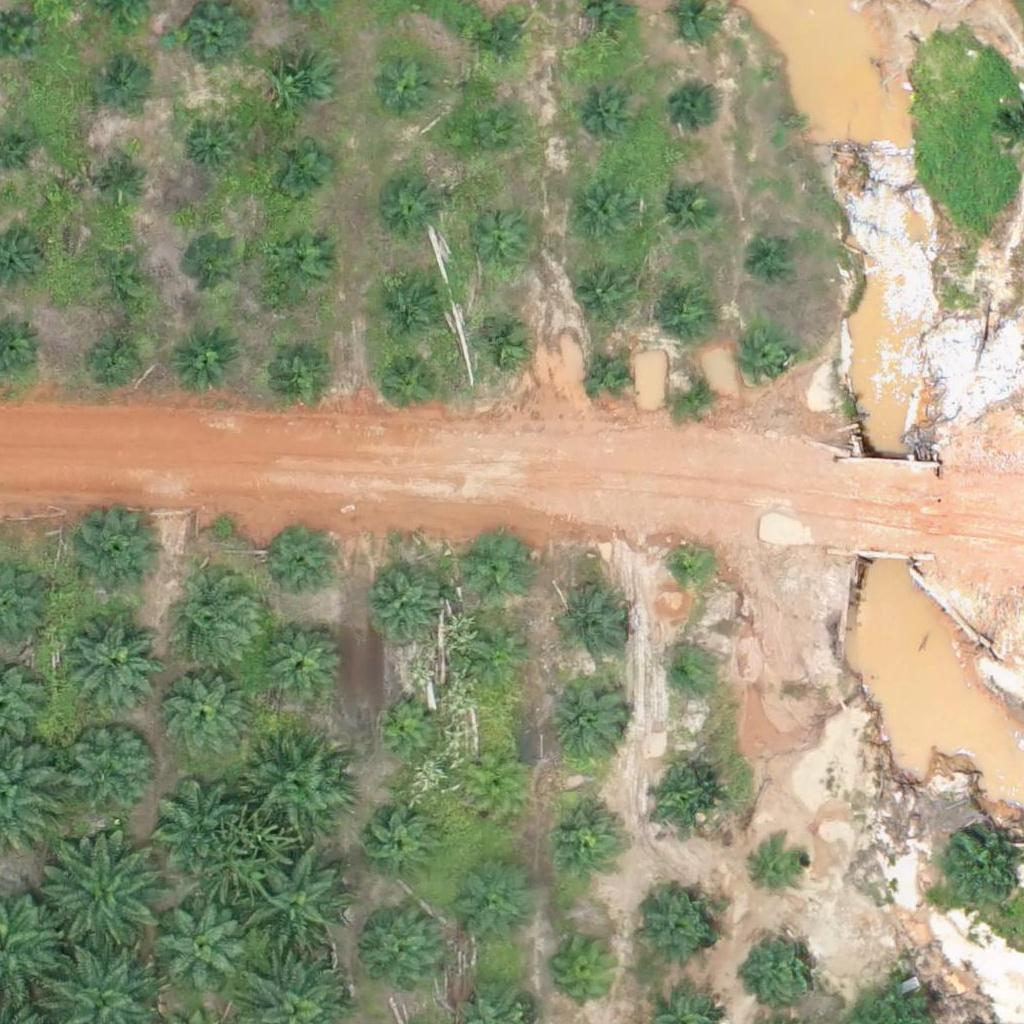Kelapa_Sawit: (42, 839, 167, 964), (250, 859, 350, 960), (244, 736, 344, 836), (166, 572, 266, 672), (61, 605, 161, 705), (636, 889, 724, 977), (161, 906, 249, 994), (67, 722, 155, 810), (75, 506, 163, 594), (360, 908, 447, 997), (164, 672, 251, 761), (152, 779, 239, 867), (363, 561, 450, 649), (258, 618, 345, 706), (553, 583, 628, 659), (263, 528, 338, 604), (644, 764, 719, 840), (746, 927, 821, 1003), (553, 680, 628, 756), (361, 807, 436, 882), (458, 871, 533, 946), (545, 798, 620, 873), (551, 931, 626, 1006), (457, 110, 520, 173), (572, 86, 635, 149), (184, 3, 247, 66), (171, 330, 234, 393), (570, 183, 633, 246), (267, 228, 330, 291), (265, 335, 328, 398), (181, 235, 244, 298), (377, 352, 440, 415), (466, 533, 529, 596), (657, 279, 720, 342), (571, 264, 634, 327), (462, 755, 525, 818), (268, 142, 330, 205), (379, 57, 441, 120), (381, 274, 443, 337), (93, 248, 155, 311), (378, 178, 440, 241), (472, 629, 534, 692), (467, 216, 529, 279), (472, 314, 534, 377), (657, 174, 719, 237), (751, 836, 813, 899), (274, 55, 336, 118), (88, 330, 150, 392), (371, 695, 433, 757), (584, 349, 634, 400), (670, 370, 720, 421), (93, 68, 143, 118), (101, 161, 151, 211), (184, 124, 234, 174), (673, 85, 723, 135), (741, 336, 791, 386), (751, 231, 801, 281), (663, 544, 713, 594), (659, 651, 709, 701), (477, 20, 527, 70)
